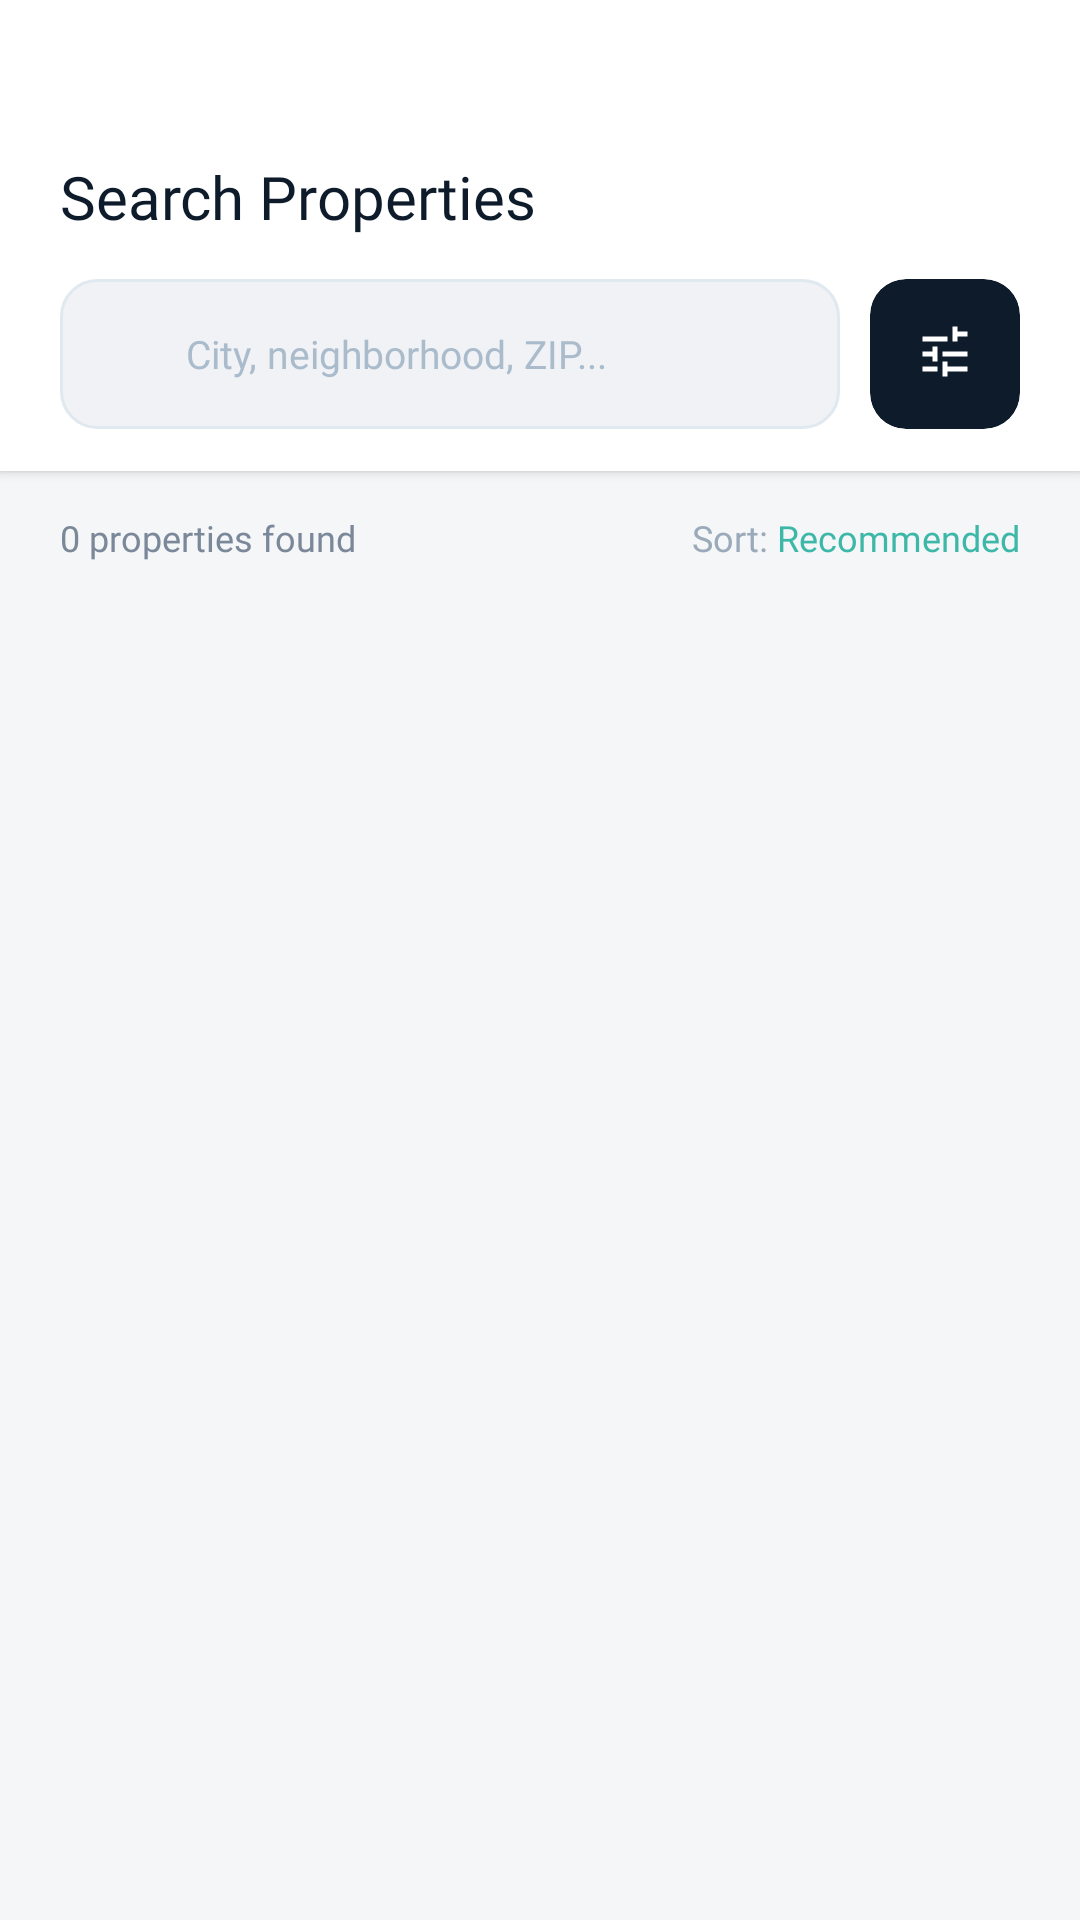

Where icons sit on this 1080x1920 app screen, as (x1, y1, x2, y2):
filter: (922, 326, 968, 377)
